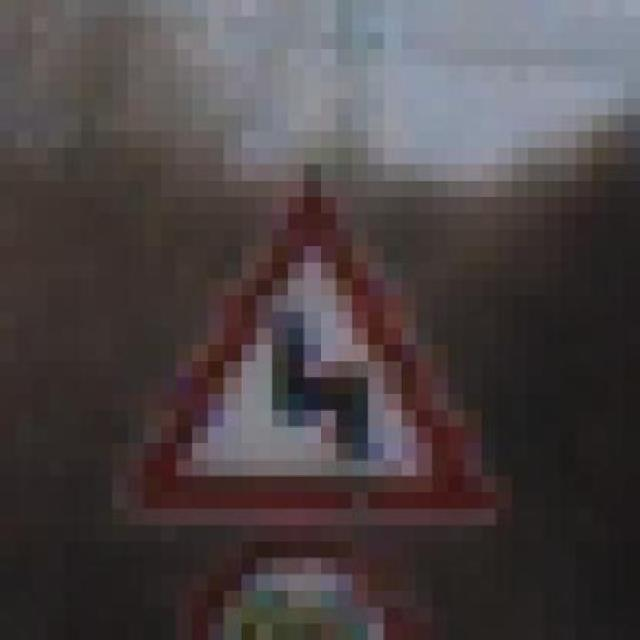Left Zig Zag Traffic: (96, 147, 529, 558)
